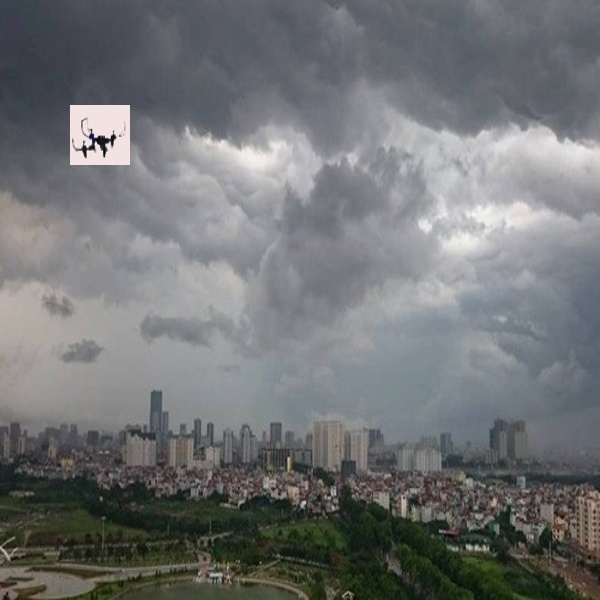drone: (65, 104, 130, 164)
